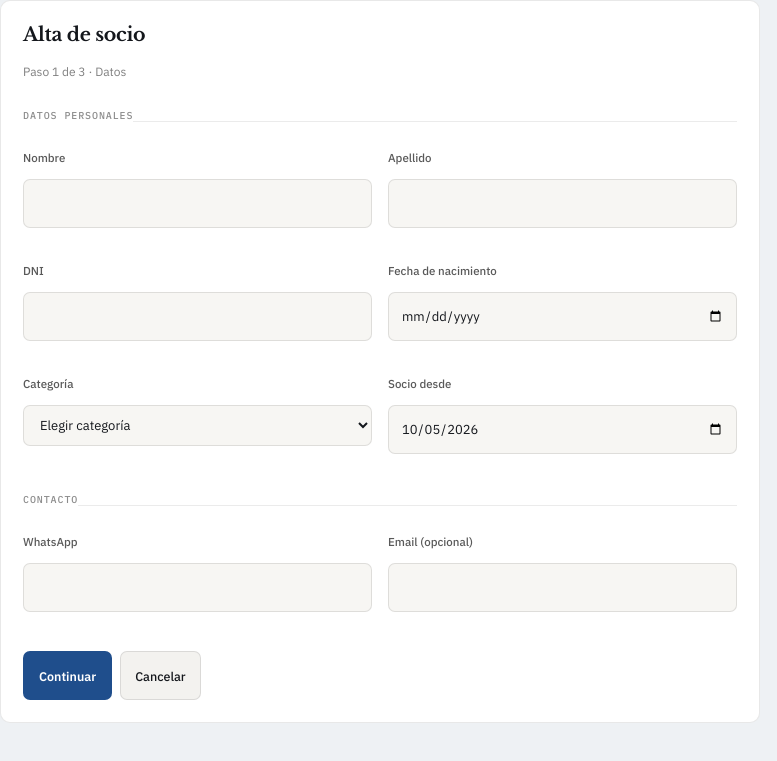
EnrollmentScreen: steps › refuses a DNI that already belongs to a member before any money is taken
This screenshot has width=777, height=761.
Step 1. Type "Lucía" into the field labelled "Nombre" → (198, 204), box [23,179,372,228]
Step 2. Type "Ríos" into the field labelled "Apellido" → (562, 204), box [388,179,737,228]
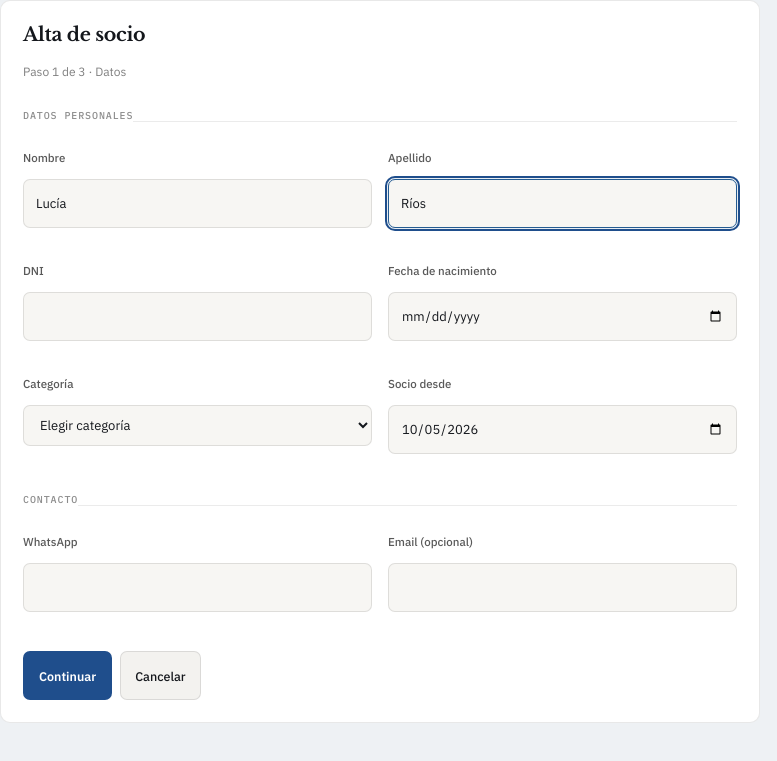
Step 3. Type "30123456" into the field labelled "DNI" → (198, 316), box [23,292,372,341]
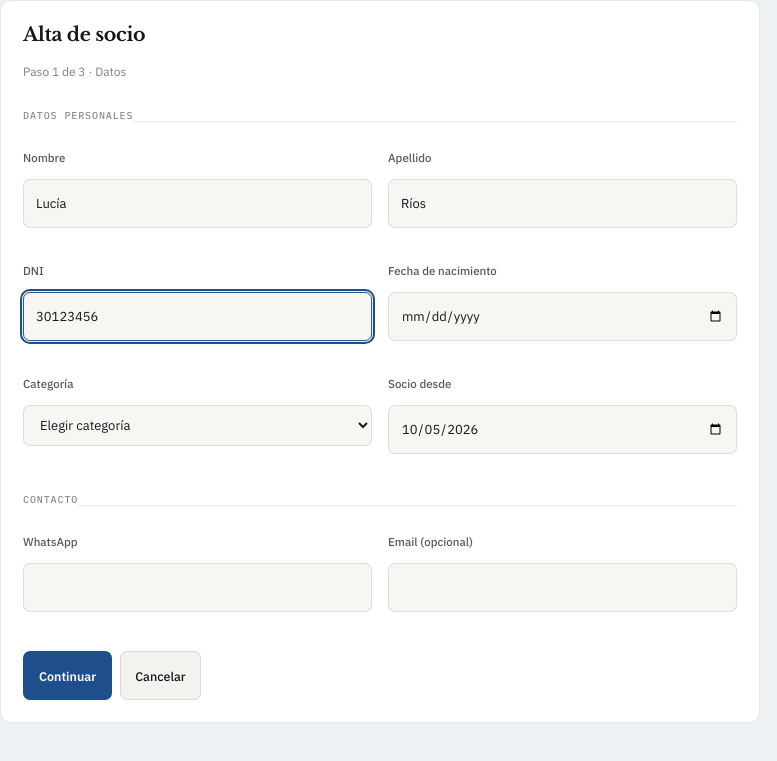
Step 4. Type "1990-03-15" into the date field labelled "Fecha de nacimiento" → (562, 316), box [388,292,737,341]
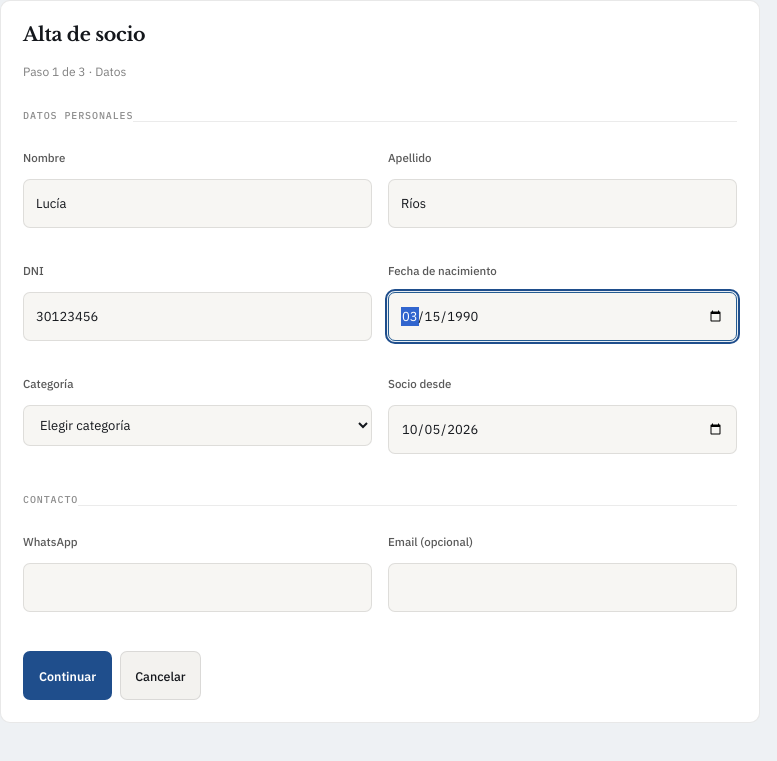
Step 5. Select "Mayor" in the dropdown labelled "Categoría" → (198, 426), box [23,405,372,446]
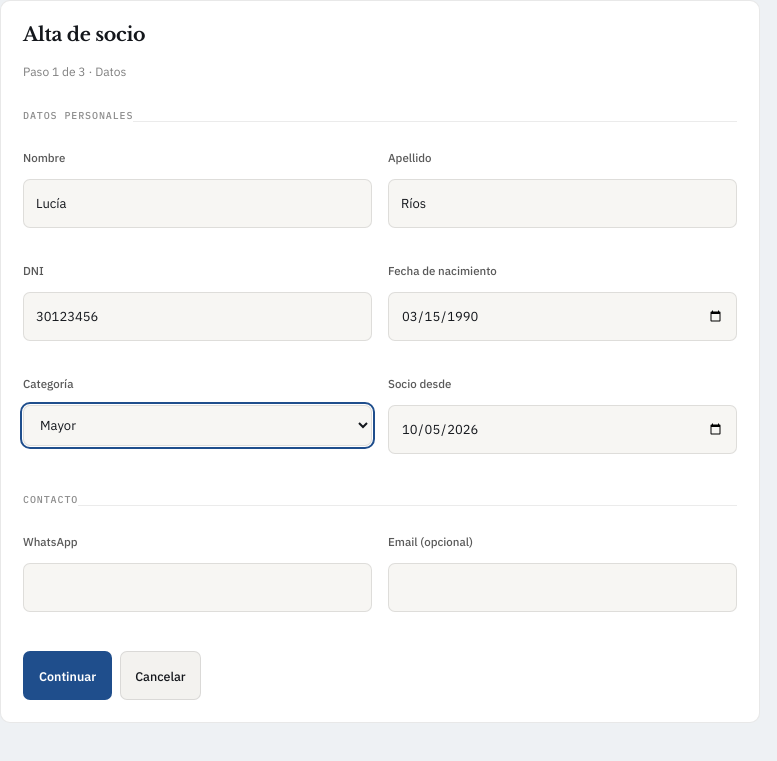
Step 6. Type "1155551234" into the field labelled "WhatsApp" → (198, 588), box [23,563,372,612]
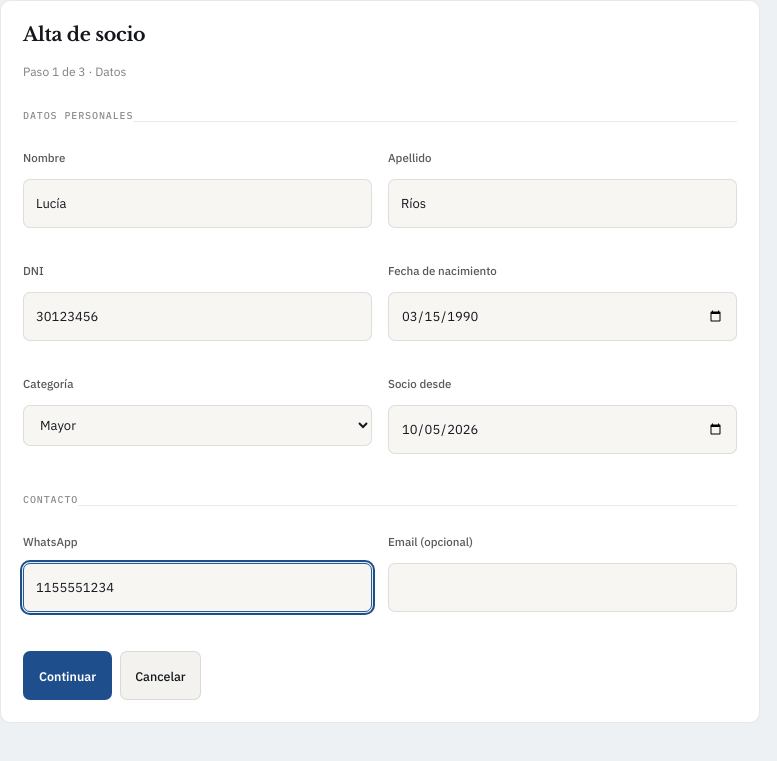
Step 7. Click the button "Continuar" → (68, 676), box [23,651,112,700]
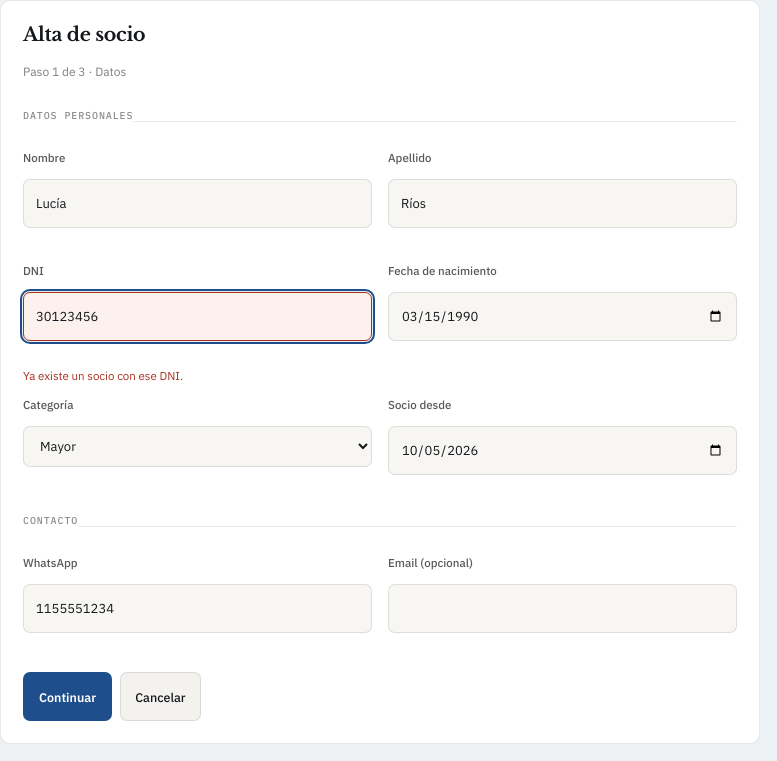
Expected: the text "Paso 1 de 3 · Datos" is shown, [23,64,126,79]
Expected: the text "Ya existe un socio con ese DNI." is shown, [23,368,183,383]
